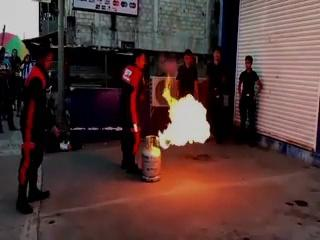Fire: (157, 70, 213, 148)
